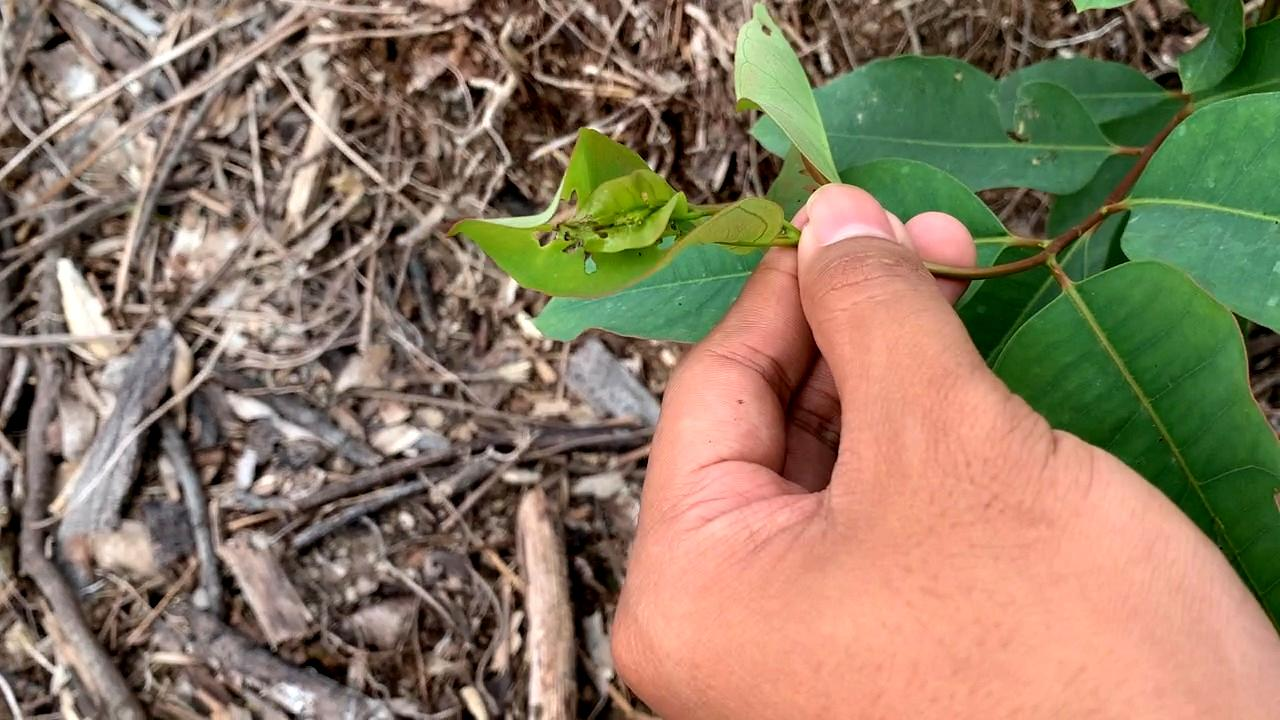Leaf Roller - Leaf: (472, 130, 778, 298)
